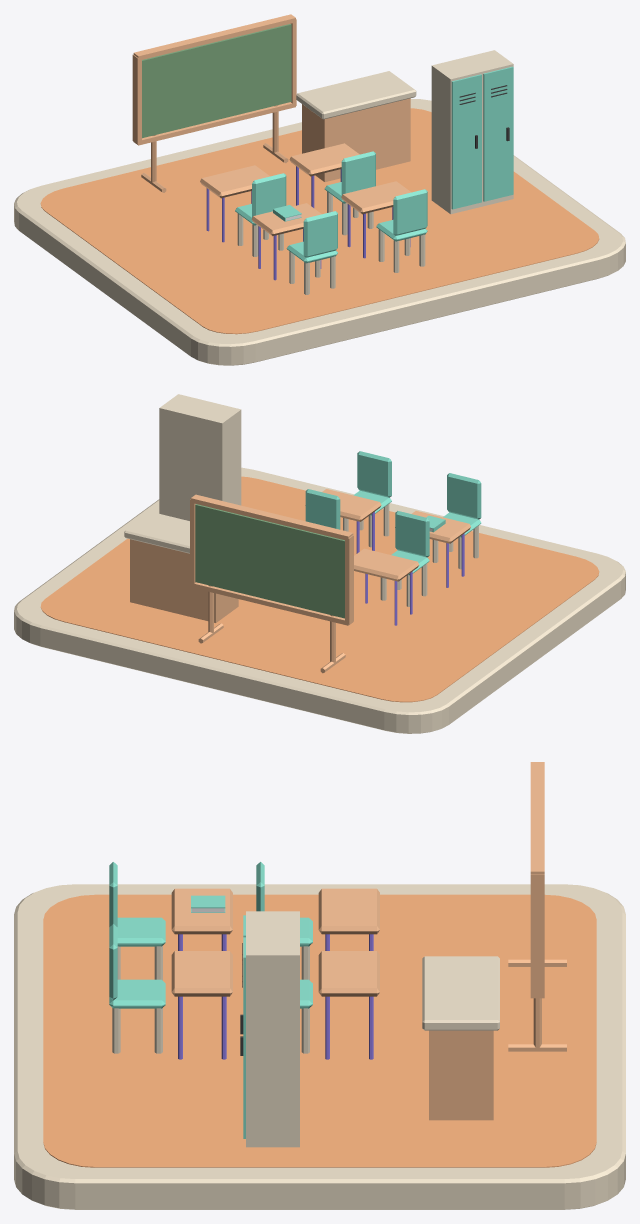
File: room.fbx
The picture shows the model from 3 angles, top to bottom: view 1: azimuth 30°, elevation 25°; view 2: azimuth 150°, elevation 25°; view 3: azimuth 270°, elevation 25°; orthographic projection. The views are drawn at different scales.
Visible parts, largest first — view 1: COM-02 Floor Surface, COM-01 Rounded Base Direct, Board, Desk body, Case, Door.001, Door, Desk top, Rail.001, Backrest.001, Backrest, Rounded table top.001 (+8 smaller); view 2: COM-02 Floor Surface, COM-01 Rounded Base Direct, Board, Case, Desk body, Desk top, Rail.001, Rounded table top.002, Backrest, Backrest.001, Backrest.002, Backrest.003 (+5 smaller); view 3: COM-02 Floor Surface, COM-01 Rounded Base Direct, Case, Desk body, Desk top, Rounded table top.002, Rounded table top.003, Rounded table top.001, Rounded table top, Frame.001, Rail.001, Seat.001 (+2 smaller).
Boxes of the visible parts, x1,y1,x2,y2 form: COM-02 Floor Surface: (40, 108, 599, 334); COM-01 Rounded Base Direct: (14, 98, 625, 365); Board: (142, 24, 291, 138); Desk body: (302, 98, 410, 181); Case: (431, 50, 513, 214); Door.001: (483, 66, 513, 201); Door: (451, 74, 481, 209); Desk top: (296, 71, 416, 119); Rail.001: (133, 14, 295, 60); Backrest.001: (393, 189, 427, 235); Backrest: (303, 211, 337, 257); Rounded table top.001: (341, 181, 411, 214); COM-02 Floor Surface: (40, 476, 599, 702); COM-01 Rounded Base Direct: (14, 467, 625, 733); Board: (195, 504, 344, 618); Case: (159, 394, 241, 520); Desk body: (130, 539, 238, 622); Desk top: (124, 512, 189, 553); Rail.001: (190, 494, 353, 540); Rounded table top.002: (354, 548, 419, 581); Backrest: (447, 473, 481, 519); Backrest.001: (357, 451, 391, 497); Backrest.002: (395, 511, 429, 557); Backrest.003: (305, 489, 340, 529); COM-02 Floor Surface: (43, 894, 596, 1167); COM-01 Rounded Base Direct: (14, 884, 625, 1209); Case: (246, 911, 299, 1147); Desk body: (429, 1030, 493, 1120); Desk top: (422, 956, 499, 1030); Rounded table top.002: (318, 888, 379, 934); Rounded table top.003: (318, 951, 379, 996); Rounded table top.001: (171, 951, 232, 996); Rounded table top: (171, 888, 232, 934); Frame.001: (530, 874, 544, 997); Rail.001: (530, 762, 544, 874); Seat.001: (109, 979, 165, 1008).
Bounding box in the file's own units: 600 × 212 × 520.
